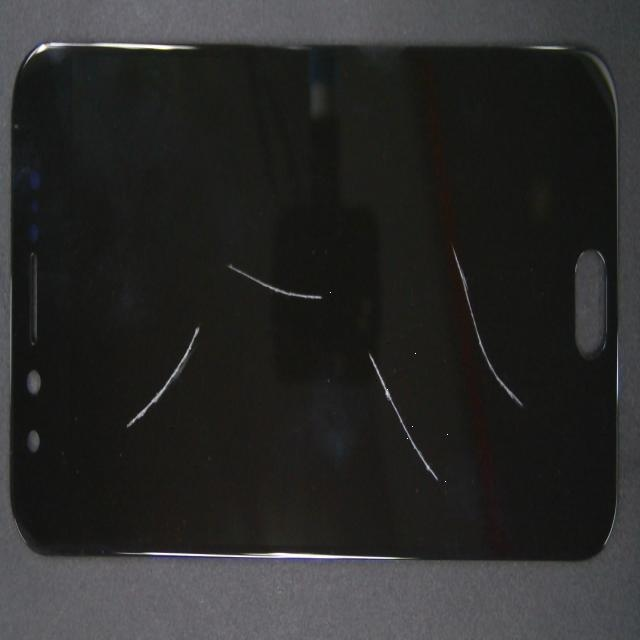scratch: (149, 134, 569, 617), (192, 63, 640, 479), (59, 131, 376, 450), (56, 193, 180, 637)
